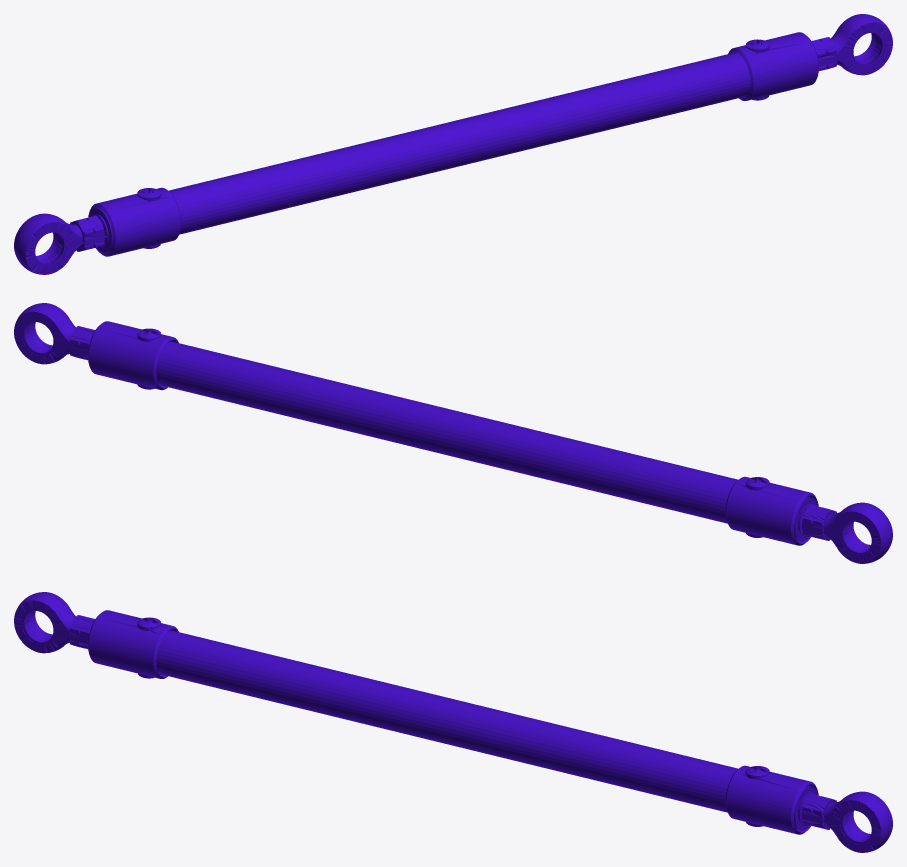
Rendered from Leg1_r.OBJ.
The picture shows the model from 3 angles, top to bottom: view 1: azimuth 30°, elevation 25°; view 2: azimuth 150°, elevation 25°; view 3: azimuth 330°, elevation 25°; orthographic projection.
Visible parts, largest first — view 1: /ambf/env/Leg1_r_Leg1_r; view 2: /ambf/env/Leg1_r_Leg1_r; view 3: /ambf/env/Leg1_r_Leg1_r.
Part boxes in pixels (bbox=[...]): /ambf/env/Leg1_r_Leg1_r: bbox=[14, 14, 892, 274]; /ambf/env/Leg1_r_Leg1_r: bbox=[14, 303, 892, 563]; /ambf/env/Leg1_r_Leg1_r: bbox=[14, 592, 892, 852].
Size of the model in its own units: 0.4689 by 0.029 by 0.0254.
